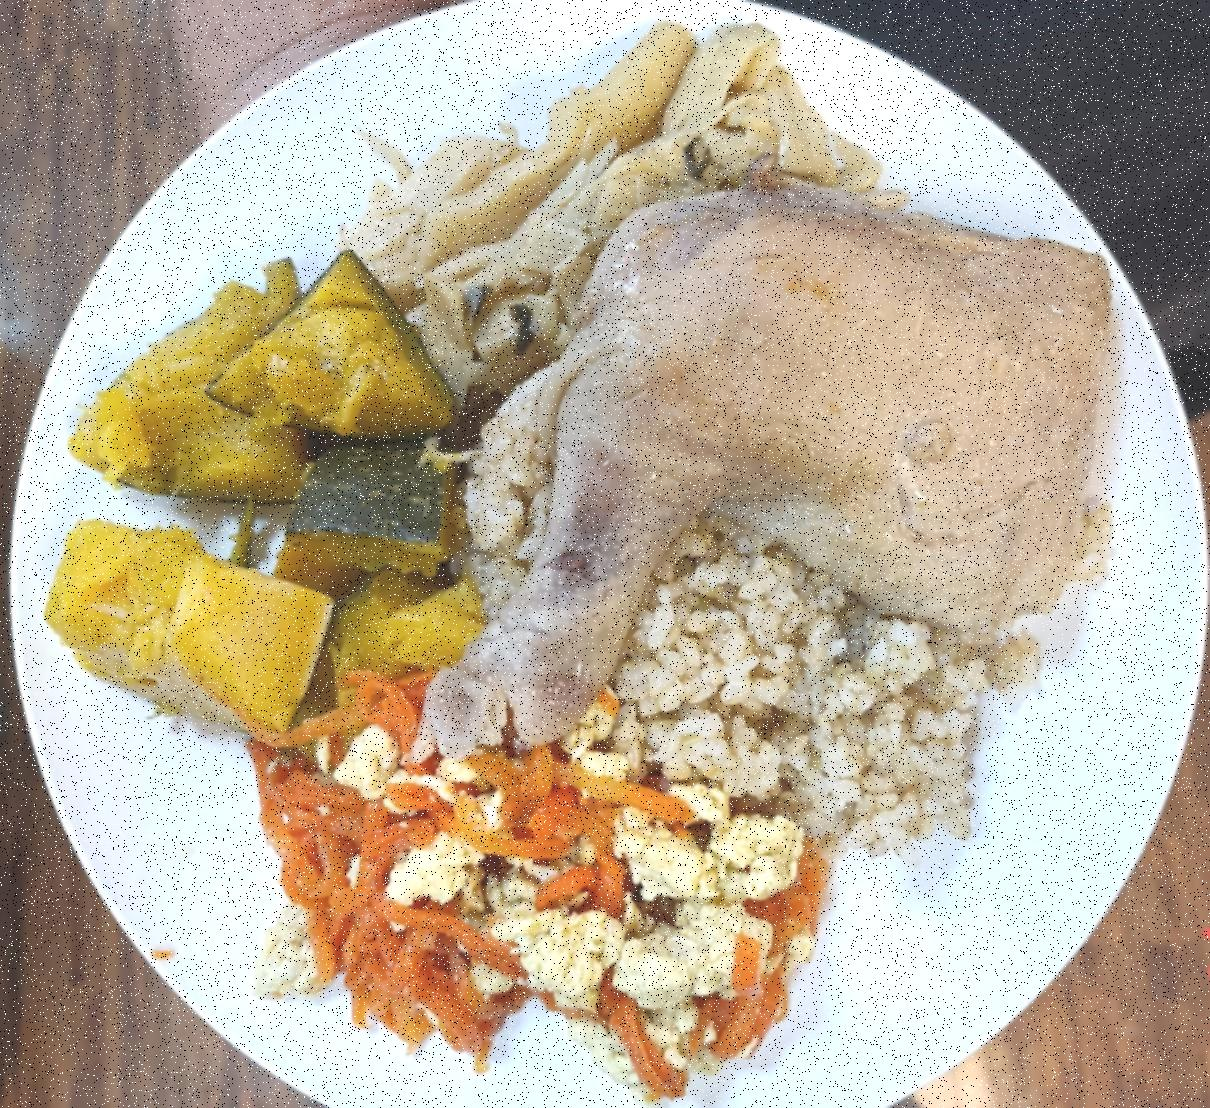plate: (0, 16, 1192, 1108)
side dish: (227, 688, 834, 1075), (41, 255, 468, 730), (346, 28, 862, 378)
